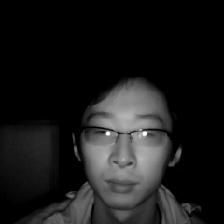normal: (61, 65, 177, 206)
